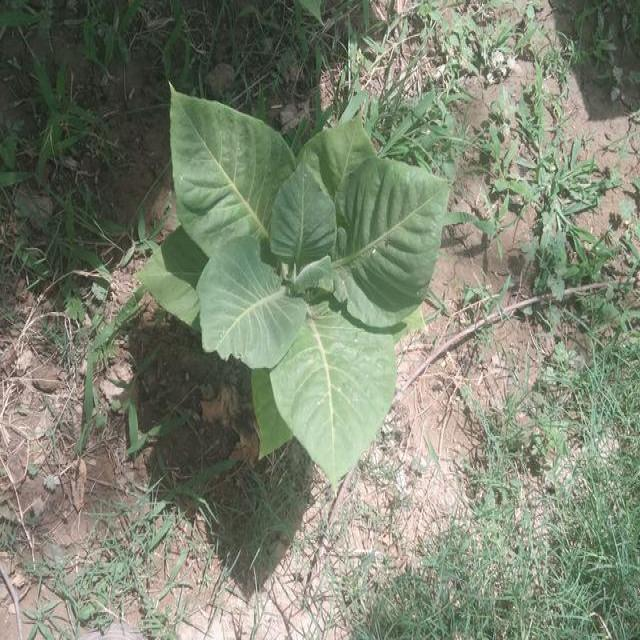crop: (139, 83, 450, 491)
